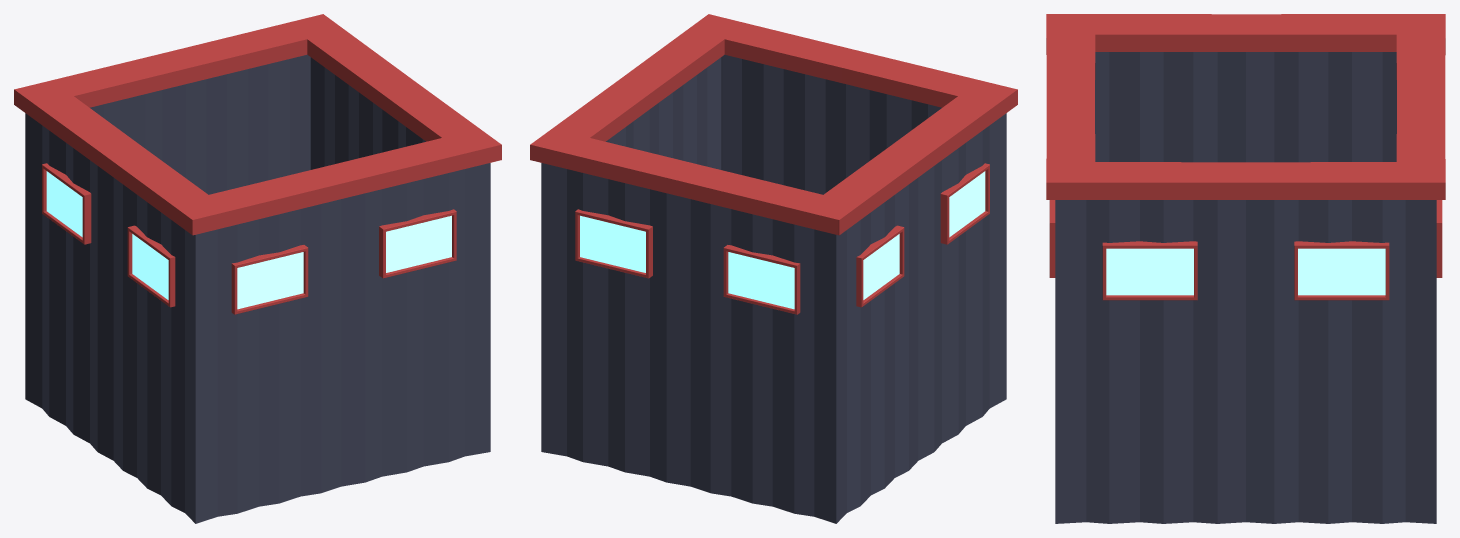
File: warehousewalls.fbx
3 renders of one model, left to right at view 1: azimuth 30°, elevation 25°; view 2: azimuth 150°, elevation 25°; view 3: azimuth 270°, elevation 25°, orthographic. The views are drawn at different scales.
Parts seen in each view (by area): view 1: WarehouseSmallWall.001, WarehouseSmallWall.002, WarehouseSmallWall, WarehouseSmallWall.003; view 2: WarehouseSmallWall, WarehouseSmallWall.002, WarehouseSmallWall.001, WarehouseSmallWall.003; view 3: WarehouseSmallWall.003, WarehouseSmallWall.002, WarehouseSmallWall, WarehouseSmallWall.001.
Part boxes in pixels (bbox=[...]): WarehouseSmallWall.001: bbox=[178, 130, 501, 523]; WarehouseSmallWall.002: bbox=[14, 83, 225, 523]; WarehouseSmallWall: bbox=[17, 14, 337, 194]; WarehouseSmallWall.003: bbox=[290, 14, 501, 169]; WarehouseSmallWall: bbox=[530, 130, 852, 523]; WarehouseSmallWall.002: bbox=[806, 90, 1017, 523]; WarehouseSmallWall.001: bbox=[694, 14, 1017, 194]; WarehouseSmallWall.003: bbox=[531, 14, 741, 169]; WarehouseSmallWall.003: bbox=[1046, 162, 1444, 523]; WarehouseSmallWall.002: bbox=[1047, 14, 1445, 162]; WarehouseSmallWall: bbox=[1396, 14, 1445, 277]; WarehouseSmallWall.001: bbox=[1046, 14, 1095, 277].
Size of the model in its own units: 210 by 200 by 210.
